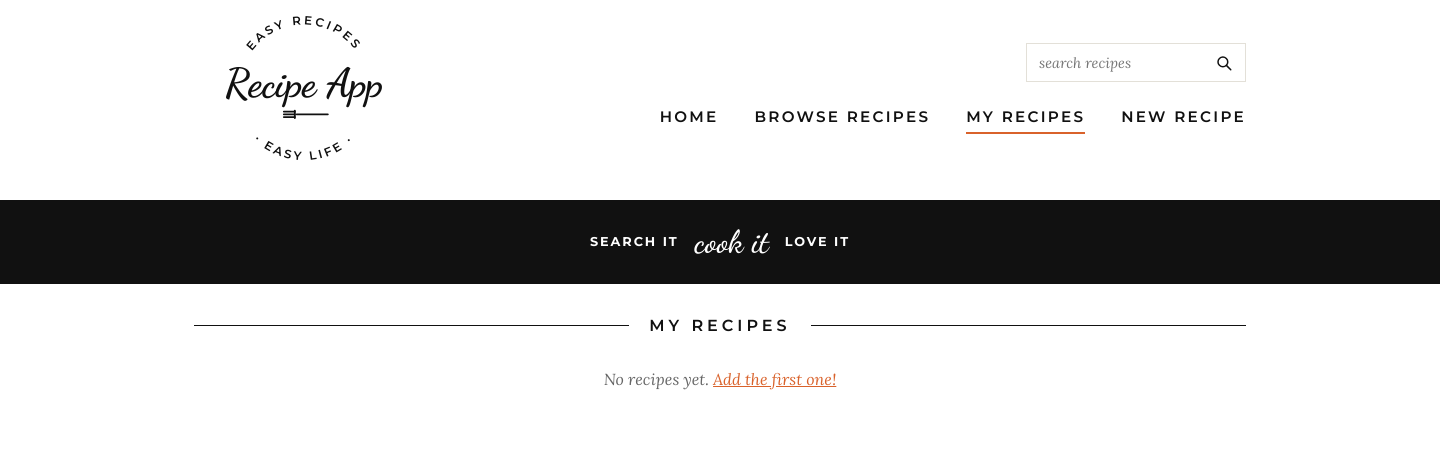
App routes › searches from the header search box
Type "chicken" into the search field labelled "search recipes" at (1115, 63), box [1027,44,1203,81]
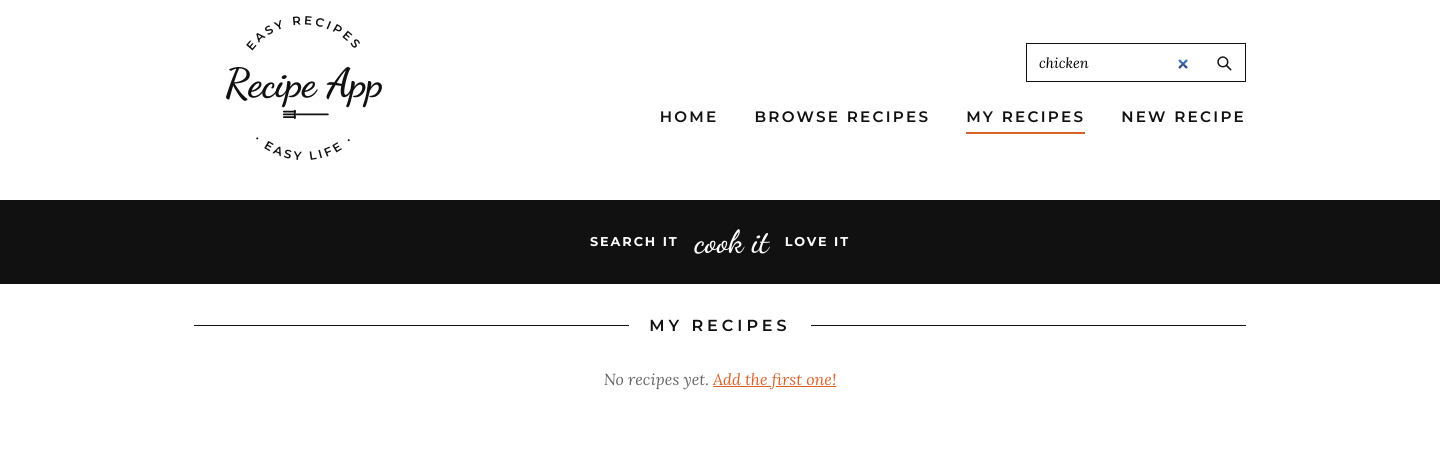
Click the button named "Search" at (1224, 63), box [1203,44,1245,81]
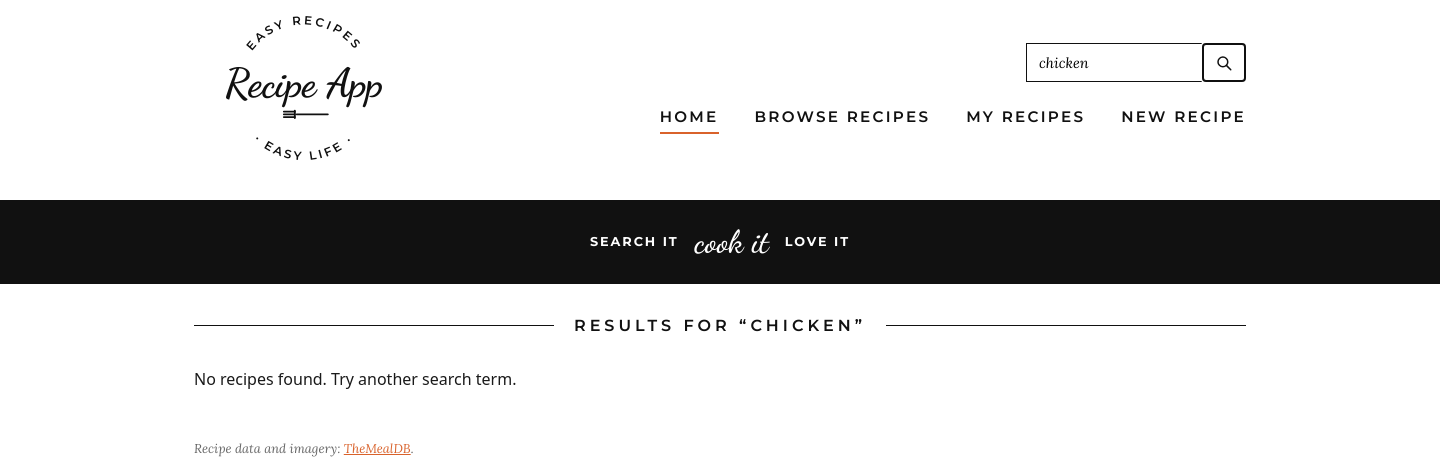
expect the heading "Results for “chicken”" is shown: met, box [574,316,866,334]
